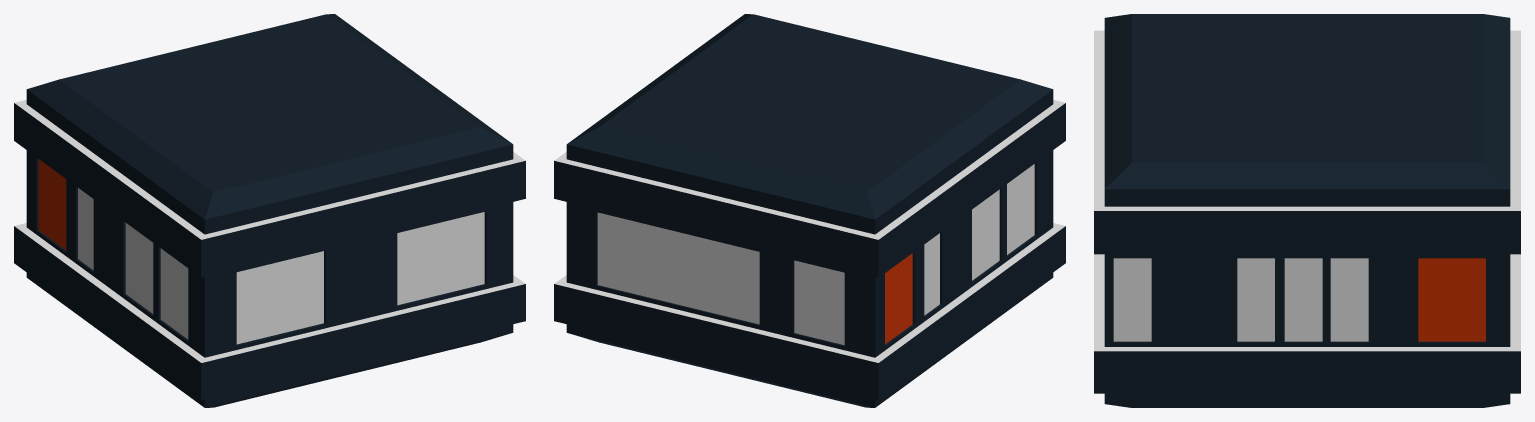
File: l1building1.fbx
3 renders of one model, left to right at view 1: azimuth 30°, elevation 25°; view 2: azimuth 150°, elevation 25°; view 3: azimuth 270°, elevation 25°, orthographic. The views are drawn at different scales.
Visible parts, largest first — view 1: Cube.247_LOD0; view 2: Cube.247_LOD0; view 3: Cube.247_LOD0.
Part boxes in pixels (<box>): Cube.247_LOD0: <box>14,14,525,407</box>; Cube.247_LOD0: <box>554,14,1065,407</box>; Cube.247_LOD0: <box>1094,14,1520,407</box>.
Size of what is drawn, in the model's own units: 12.62 by 8 by 12.62.
